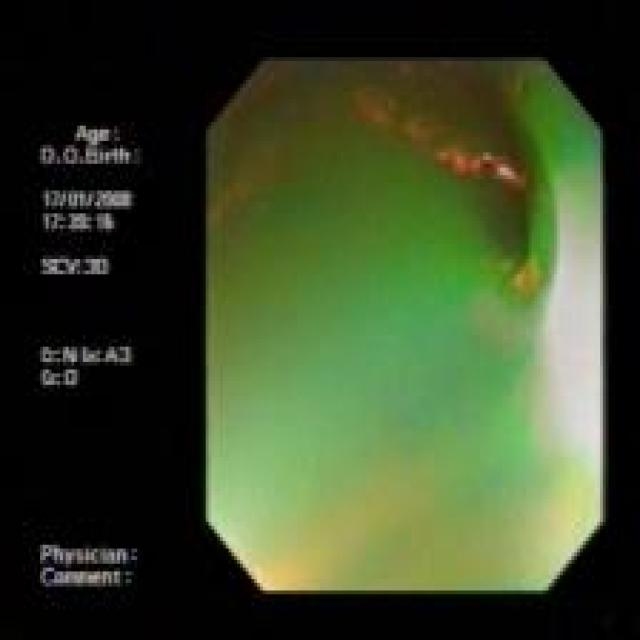color misalignment: (208, 58, 603, 591), (38, 122, 142, 588)
